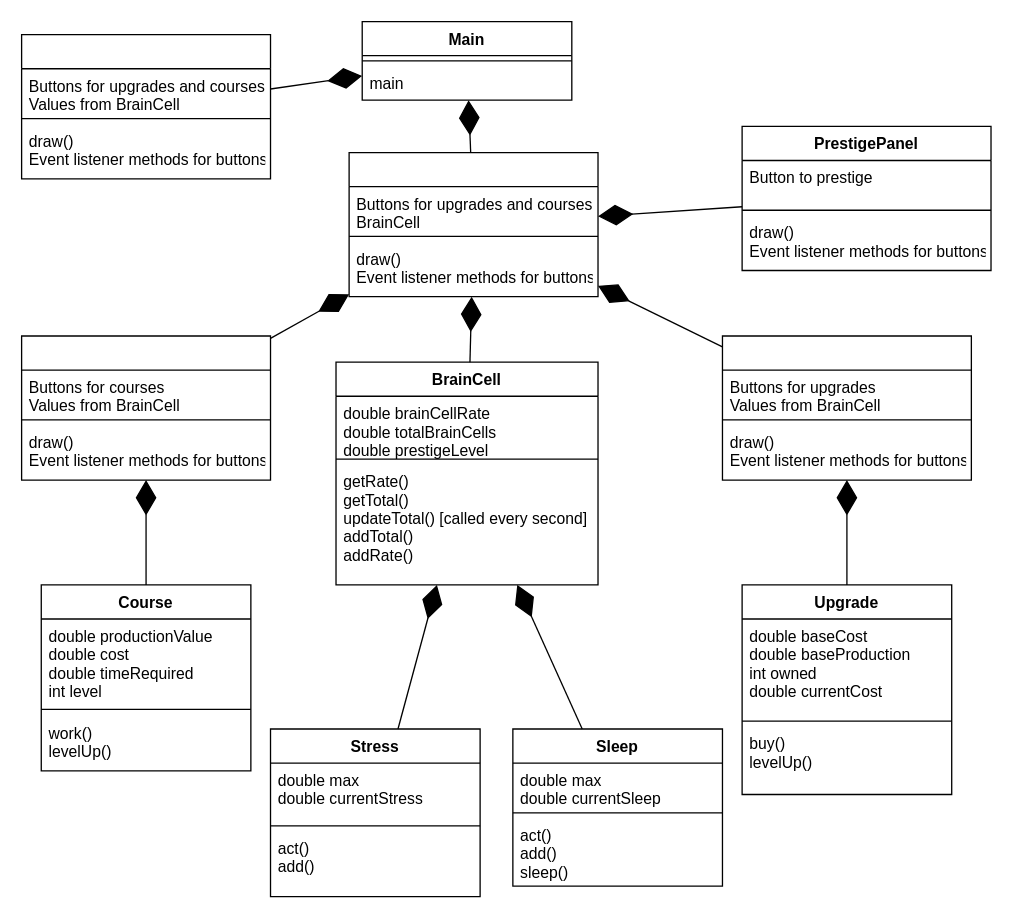
The diagram is 1013 pixels wide and 918 high, and some of its shapes have lost their labels. The box of each missing label's shape, as (x1, y1, x2, y2) in pixels:
CoursePanel: (20, 335, 271, 480)
Menu: (348, 151, 598, 297)
StartMenu: (20, 33, 271, 179)
UpgradePanel: (721, 335, 971, 480)
